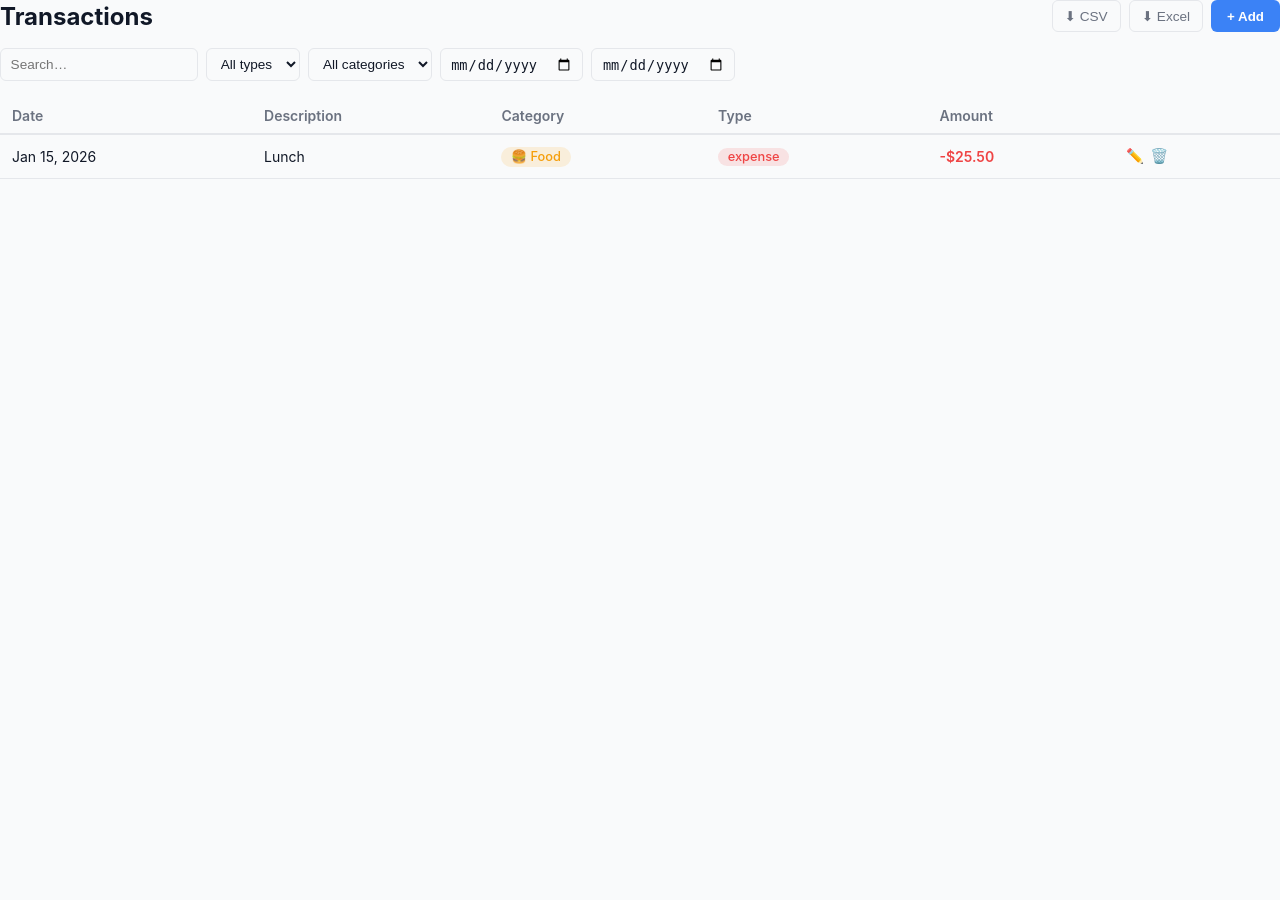
it: TransactionsPage › opens the New Transaction modal when Add is clicked
The width and height of the screenshot is (1280, 900).
Click the button "+ Add": (1246, 16) [1211,0,1279,32]
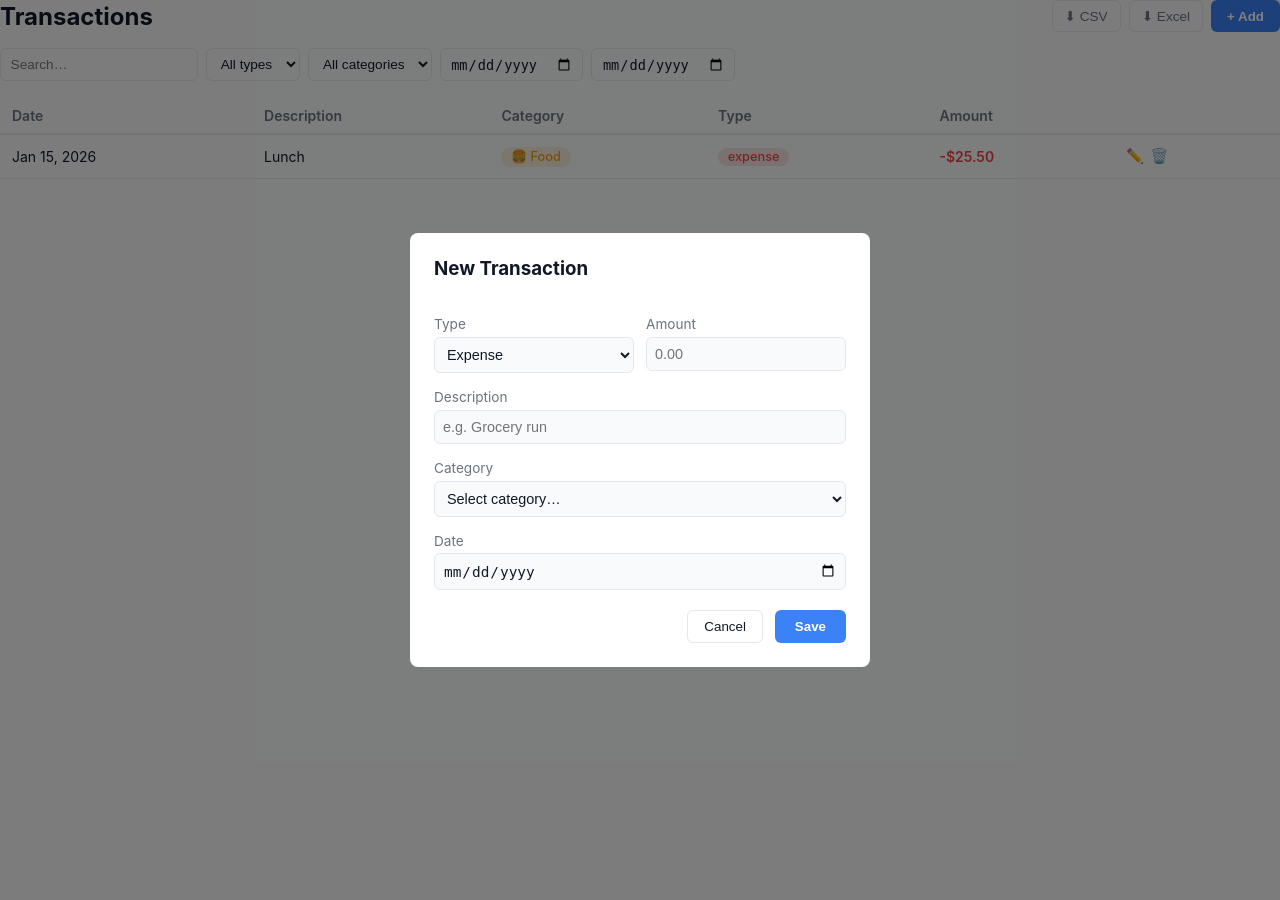
Now the heading "New Transaction" is shown, box [434,257,588,280]
